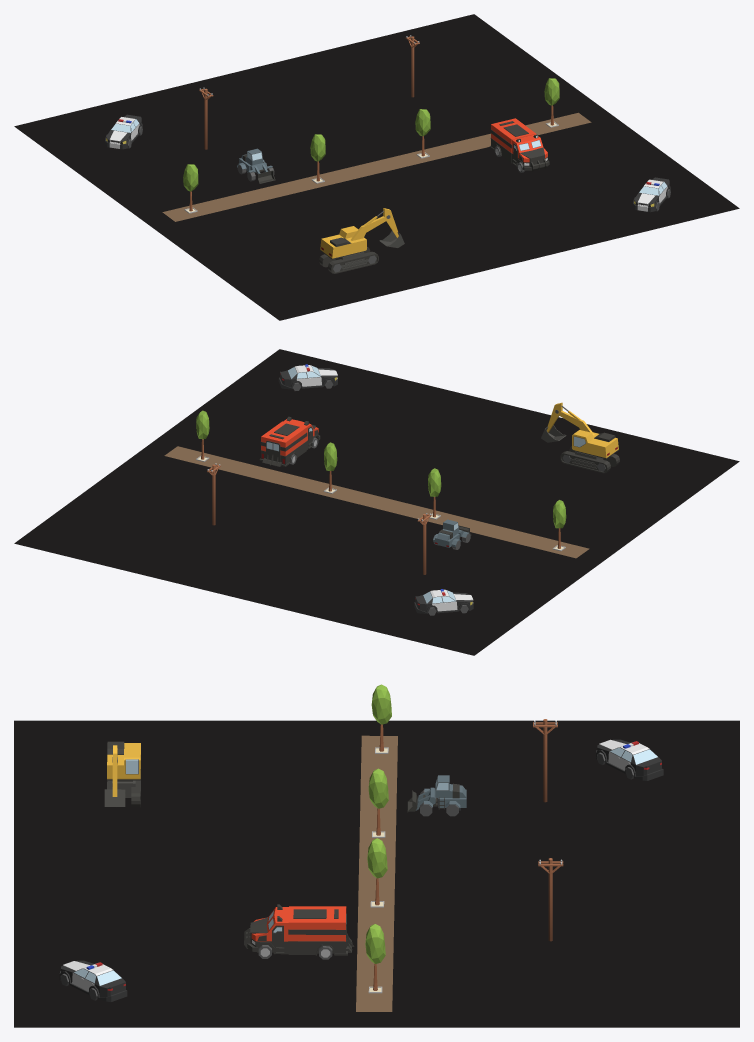
The model's file is Tile 7_Combined_2.fbx.
3 renders of one model, top to bottom at view 1: azimuth 30°, elevation 25°; view 2: azimuth 150°, elevation 25°; view 3: azimuth 270°, elevation 25°, orthographic. The views are drawn at different scales.
Parts seen in each view (by area): view 1: MeshBaker_Cluster_0_mesh_mesh; view 2: MeshBaker_Cluster_0_mesh_mesh; view 3: MeshBaker_Cluster_0_mesh_mesh.
Boxes of the visible parts, x1,y1,x2,y2 form: MeshBaker_Cluster_0_mesh_mesh: (14, 14, 739, 320); MeshBaker_Cluster_0_mesh_mesh: (14, 349, 739, 655); MeshBaker_Cluster_0_mesh_mesh: (14, 684, 739, 1027).
Size of the model in its own units: 3000 by 371 by 3000.
